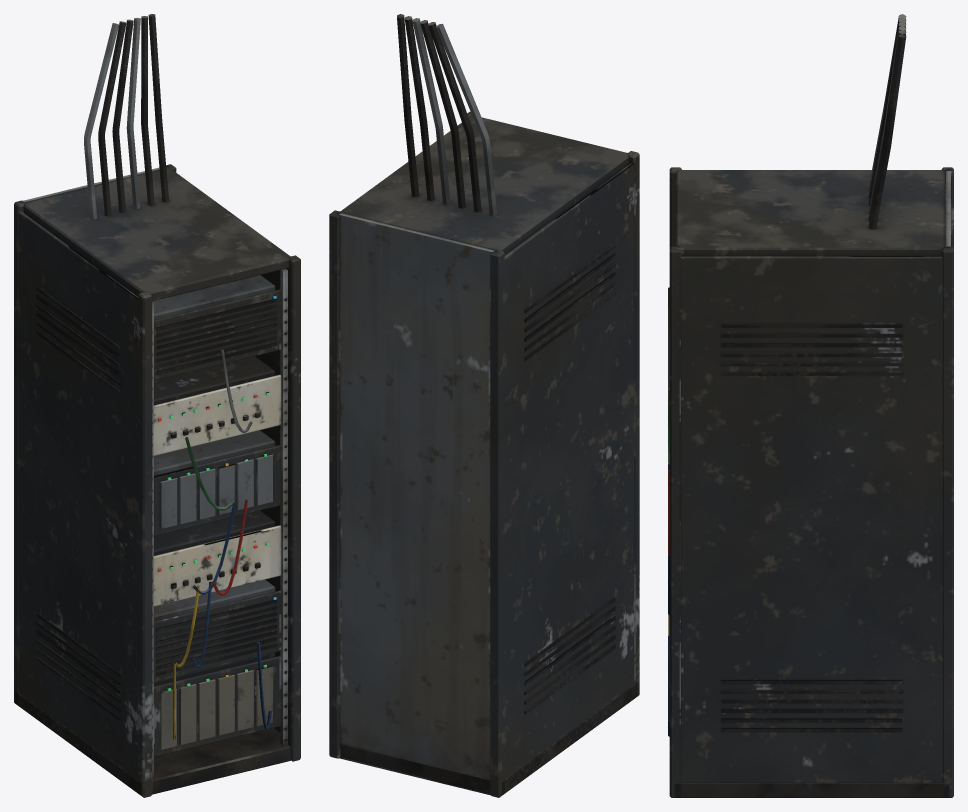
The model's file is ServerRack.fbx.
3 views of the same model, side by side, from view 1: azimuth 30°, elevation 25°; view 2: azimuth 150°, elevation 25°; view 3: azimuth 270°, elevation 25° (orthographic). The views are drawn at different scales.
Visible parts, largest first — view 1: Frame; view 2: Frame; view 3: Frame.
Part boxes in pixels (x1=…): Frame: x1=14, y1=14, x2=300, y2=797; Frame: x1=329, y1=14, x2=639, y2=797; Frame: x1=668, y1=14, x2=953, y2=797.
Size of the model in its own units: 1.99 by 8.11 by 2.84.
1 material, 1 textured.
